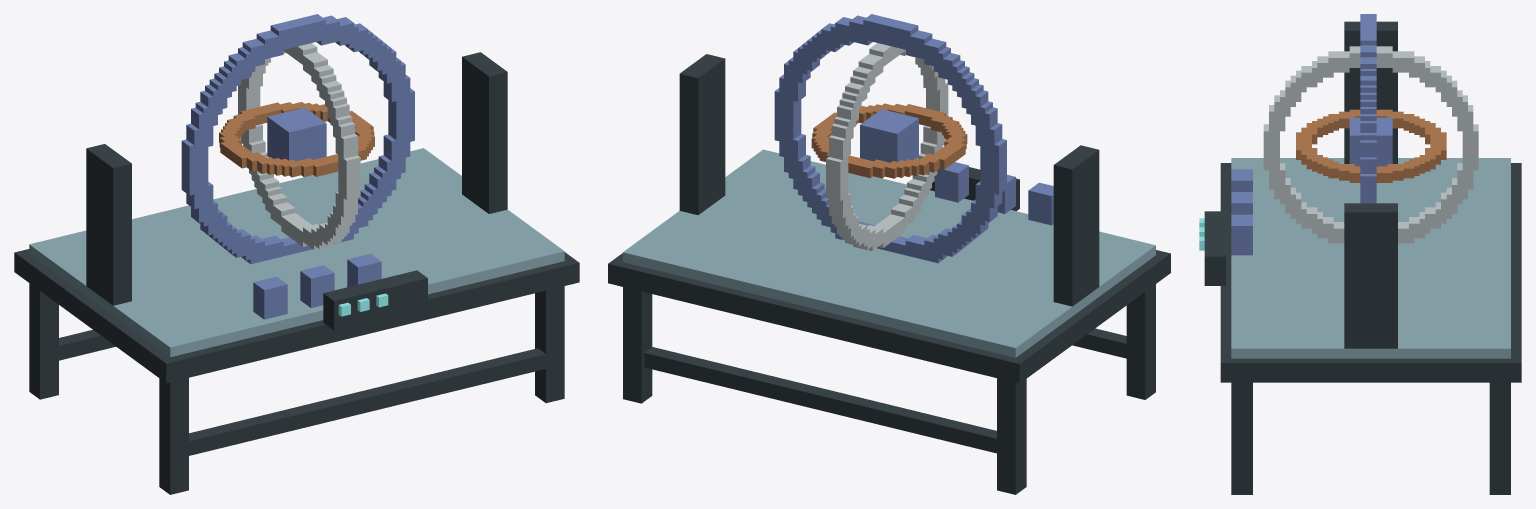
Rendered from physics_station_t8.glb.
3 views of the same model, side by side, from view 1: azimuth 30°, elevation 25°; view 2: azimuth 150°, elevation 25°; view 3: azimuth 270°, elevation 25° (orthographic).
Parts seen in each view (by area): view 1: physics_station_t8/work_surface, physics_station_t8/frame, physics_station_t8/field_cage; view 2: physics_station_t8/work_surface, physics_station_t8/frame, physics_station_t8/field_cage; view 3: physics_station_t8/work_surface, physics_station_t8/field_cage, physics_station_t8/frame.
Part boxes in pixels (x1=…): physics_station_t8/work_surface: x1=29, y1=52, x2=564, y2=357; physics_station_t8/frame: x1=14, y1=249, x2=579, y2=494; physics_station_t8/field_cage: x1=181, y1=14, x2=414, y2=264; physics_station_t8/work_surface: x1=623, y1=54, x2=1155, y2=357; physics_station_t8/frame: x1=608, y1=250, x2=1170, y2=494; physics_station_t8/field_cage: x1=774, y1=14, x2=1006, y2=263; physics_station_t8/work_surface: x1=1199, y1=21, x2=1510, y2=358; physics_station_t8/field_cage: x1=1263, y1=14, x2=1478, y2=243; physics_station_t8/frame: x1=1220, y1=163, x2=1521, y2=494.
Bounding box in the file's own units: 2.75 × 2.38 × 1.88.
